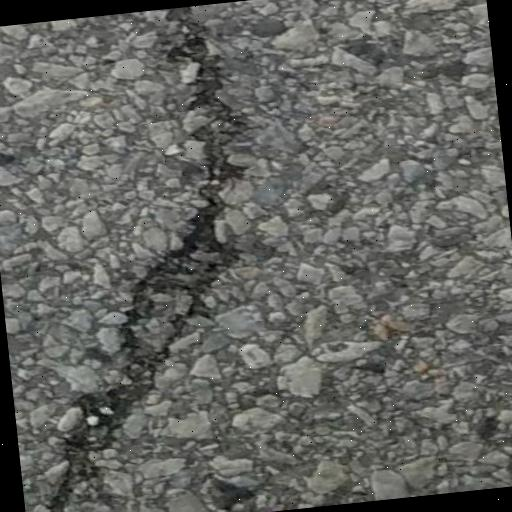spalling: (43, 7, 248, 512)
